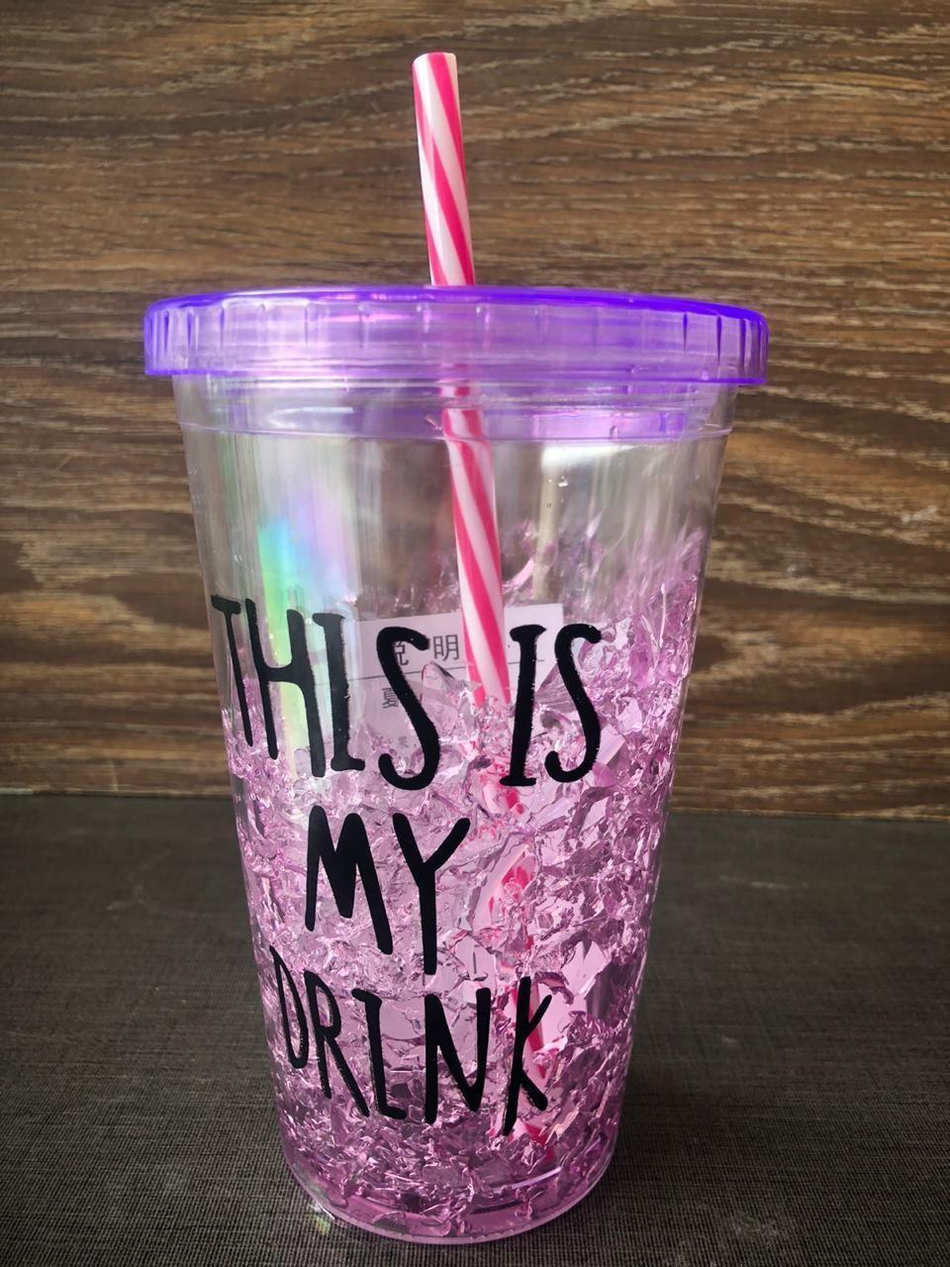cup-disposable: (140, 287, 765, 1245)
